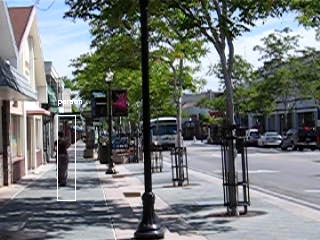person: (52, 131, 71, 188), (51, 131, 70, 188), (53, 131, 72, 188), (52, 130, 71, 187), (52, 132, 71, 189)
target_negative: (49, 175, 299, 227), (238, 70, 261, 228), (250, 7, 263, 198), (27, 226, 214, 238), (158, 180, 268, 193), (306, 147, 311, 178)
